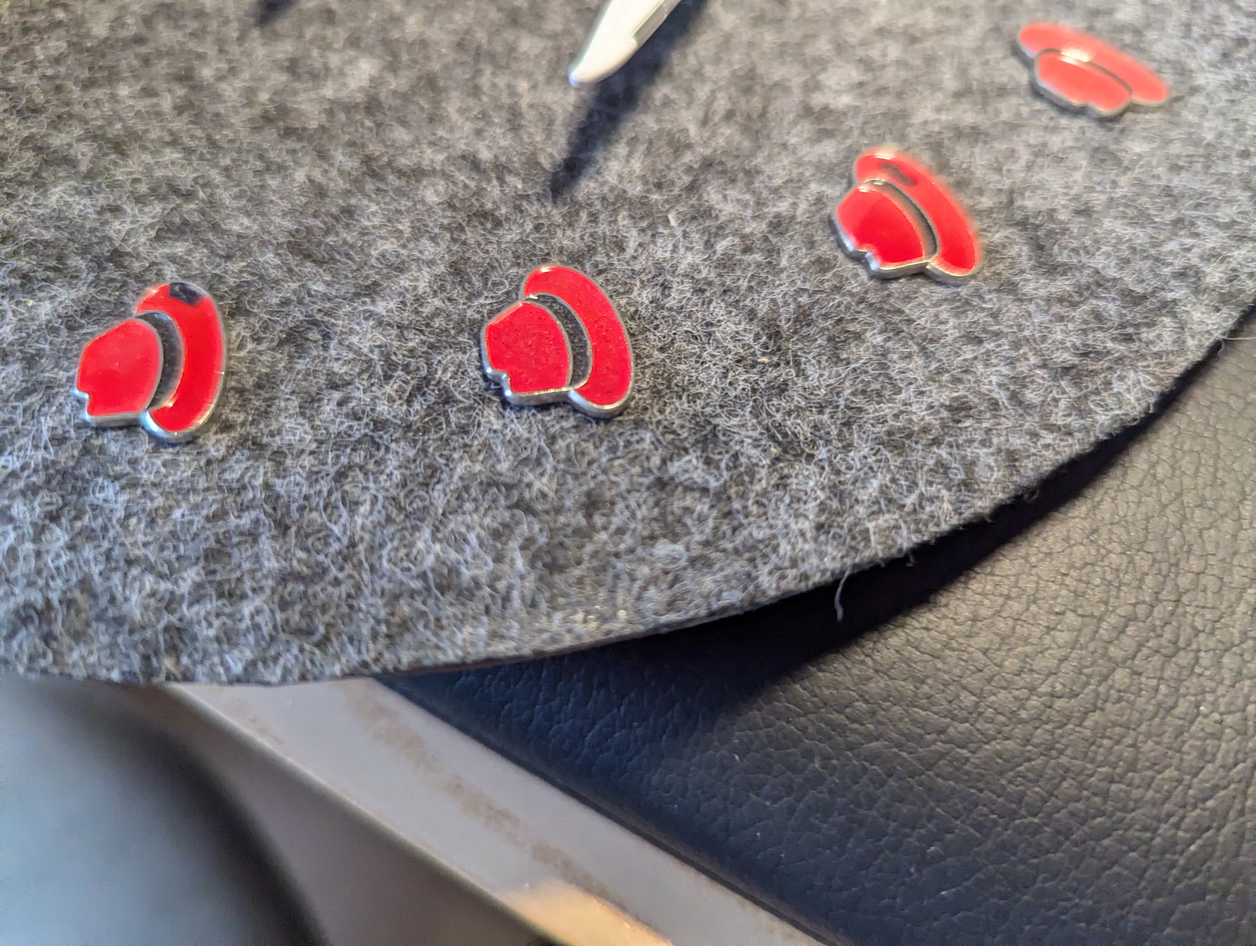Red-Hat: (62, 242, 248, 474), (466, 238, 647, 434), (817, 123, 989, 310), (993, 8, 1182, 127)
Scratch: (869, 144, 931, 199), (160, 267, 210, 310)
